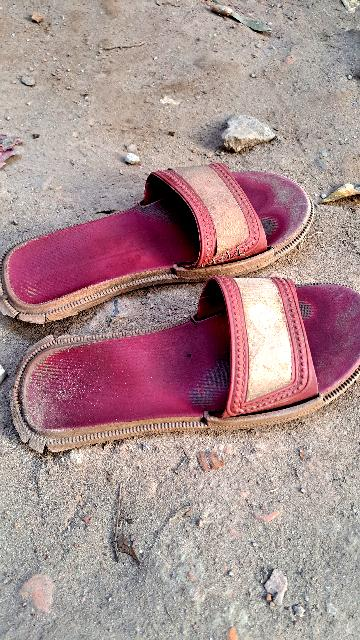sandal: (10, 254, 360, 450), (0, 146, 316, 334)
